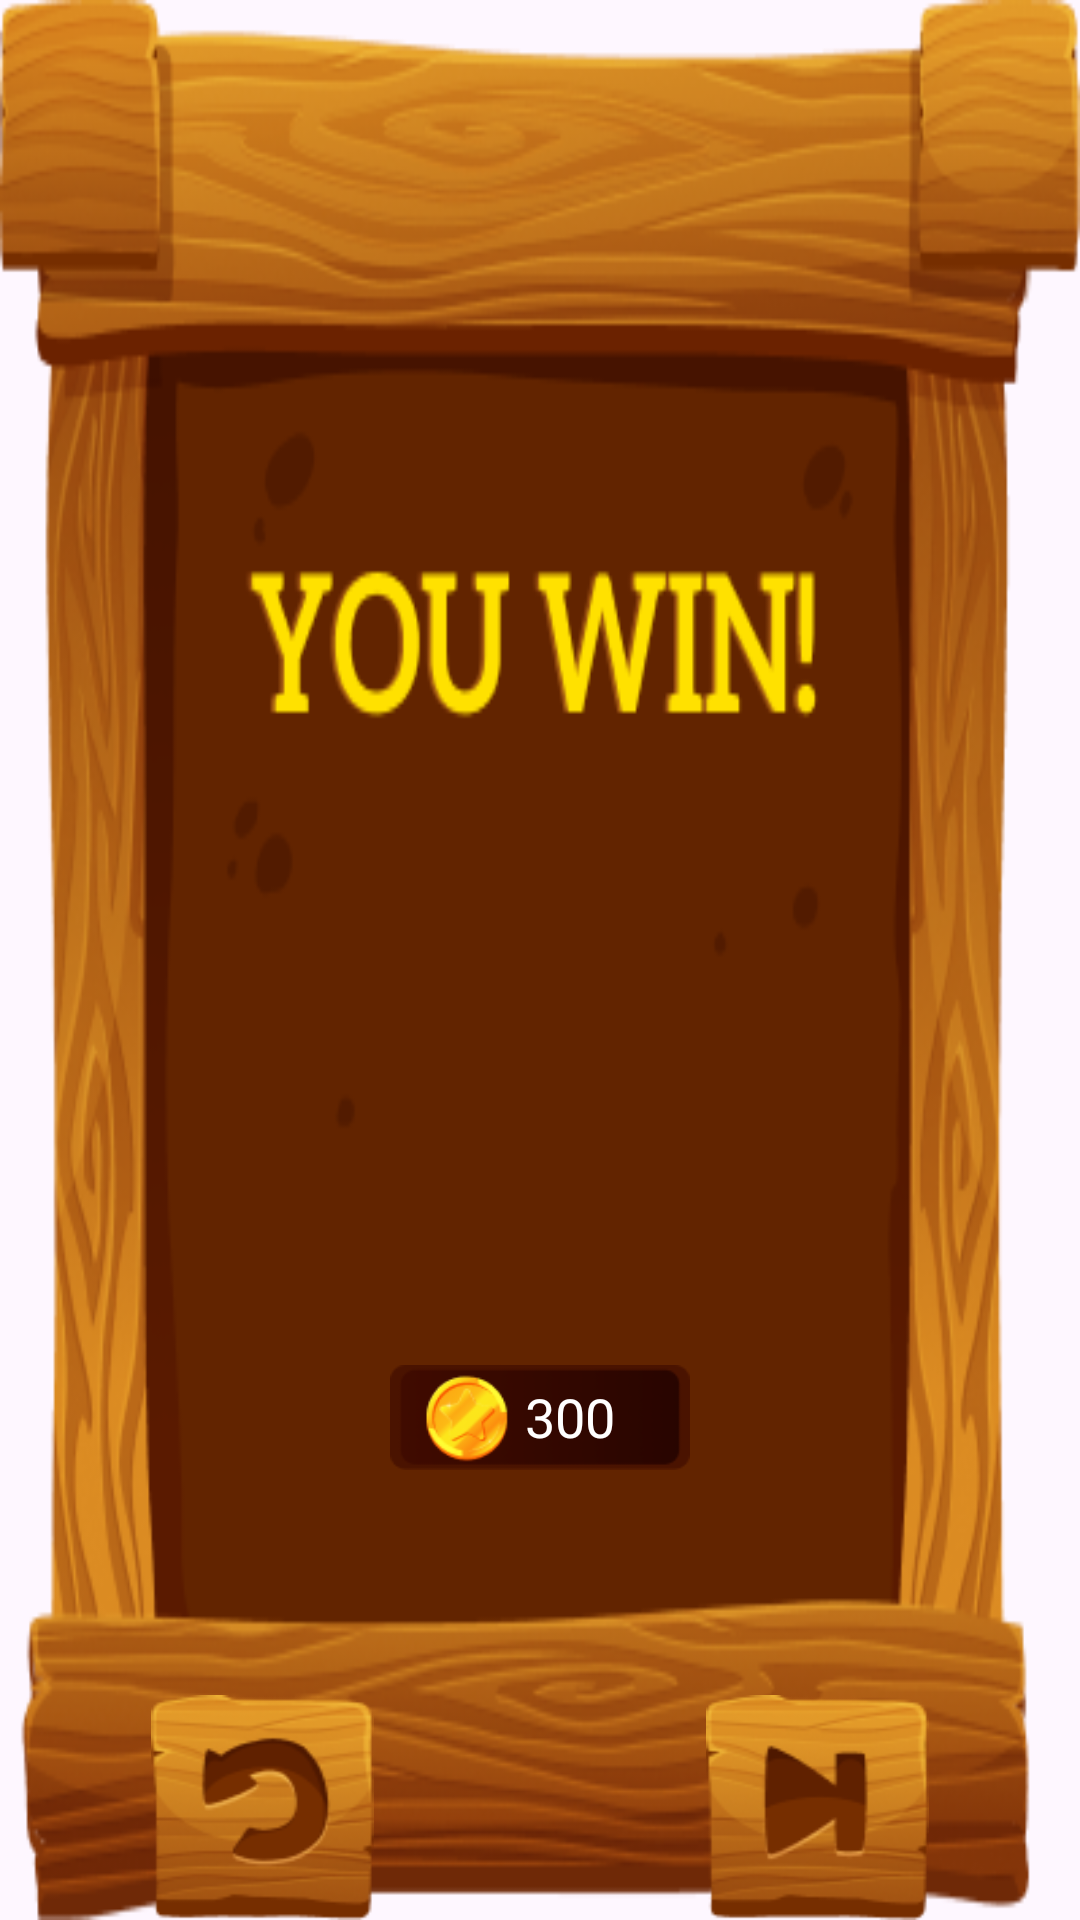

Icons on this 1080px×1920px Android screen, each with the point to tap as [x,y]:
continue: [817,1807]
restart: [262,1780]
